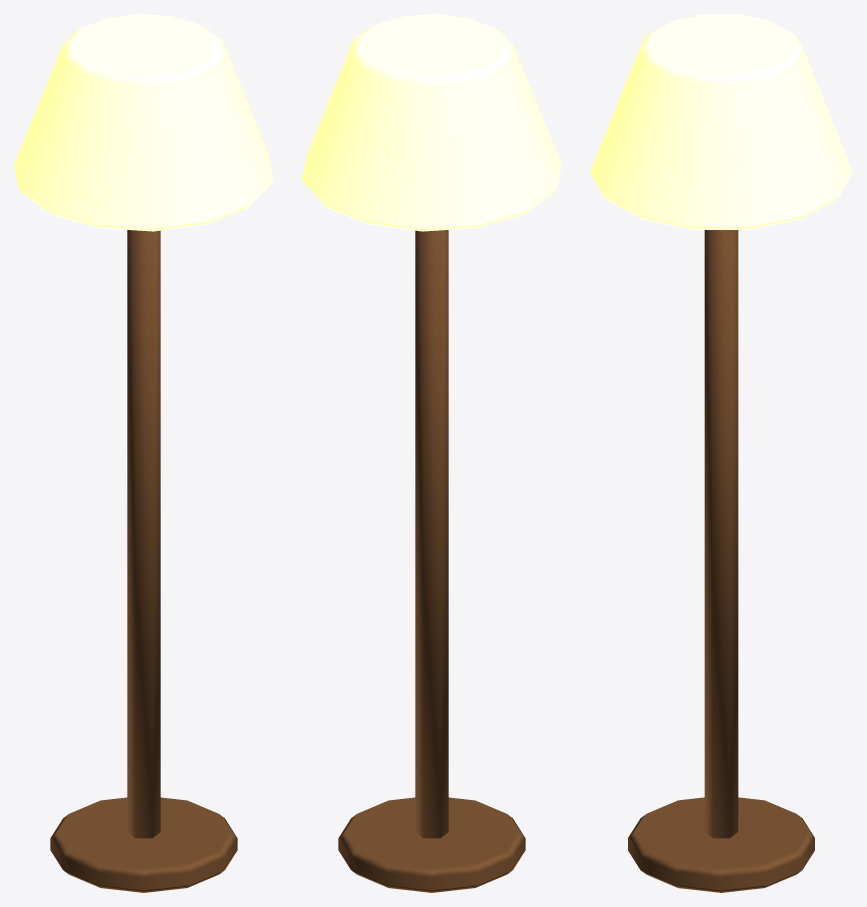
Rendered from lamp_floor.glb.
The picture shows the model from 3 angles, left to right: view 1: azimuth 30°, elevation 25°; view 2: azimuth 150°, elevation 25°; view 3: azimuth 270°, elevation 25°; orthographic projection.
Visible parts, largest first — view 1: lamp_floor; view 2: lamp_floor; view 3: lamp_floor.
Part boxes in pixels (left/top/right/bottom): lamp_floor: left=14, top=14, right=273, bottom=892; lamp_floor: left=302, top=14, right=561, bottom=892; lamp_floor: left=590, top=14, right=852, bottom=892.
Bounding box in the file's own units: 0.3833 × 1.34 × 0.3931.
